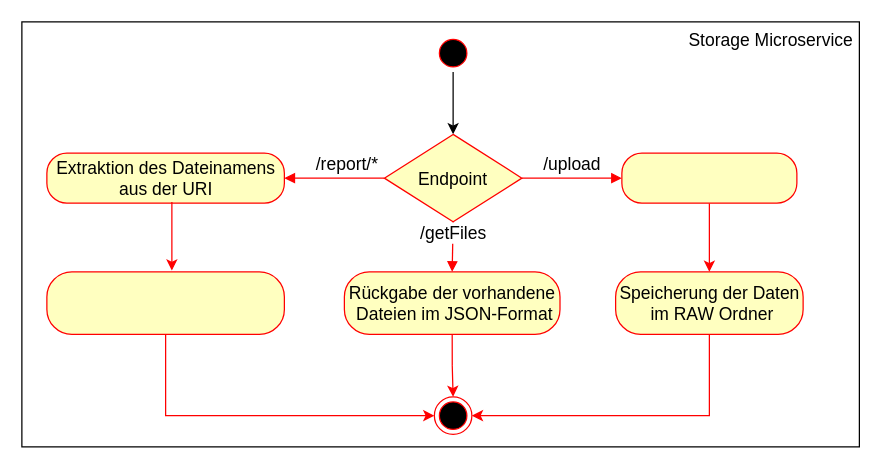
The diagram is 893 pixels wide and 469 high, and some of its shapes have lost their labels. The box of each missing label's shape, as (x1, y1, x2, y2) in pixels:
Extraktion der Datei aus dem HTTP-Body: (621, 152, 797, 203)
Rückgabe des Report aus dem Reportordner als BLOBs: (46, 271, 284, 334)
